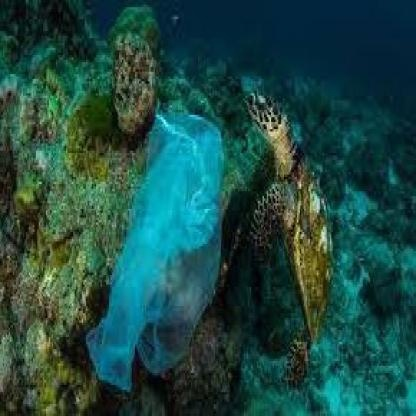pbag: (85, 110, 225, 397)
